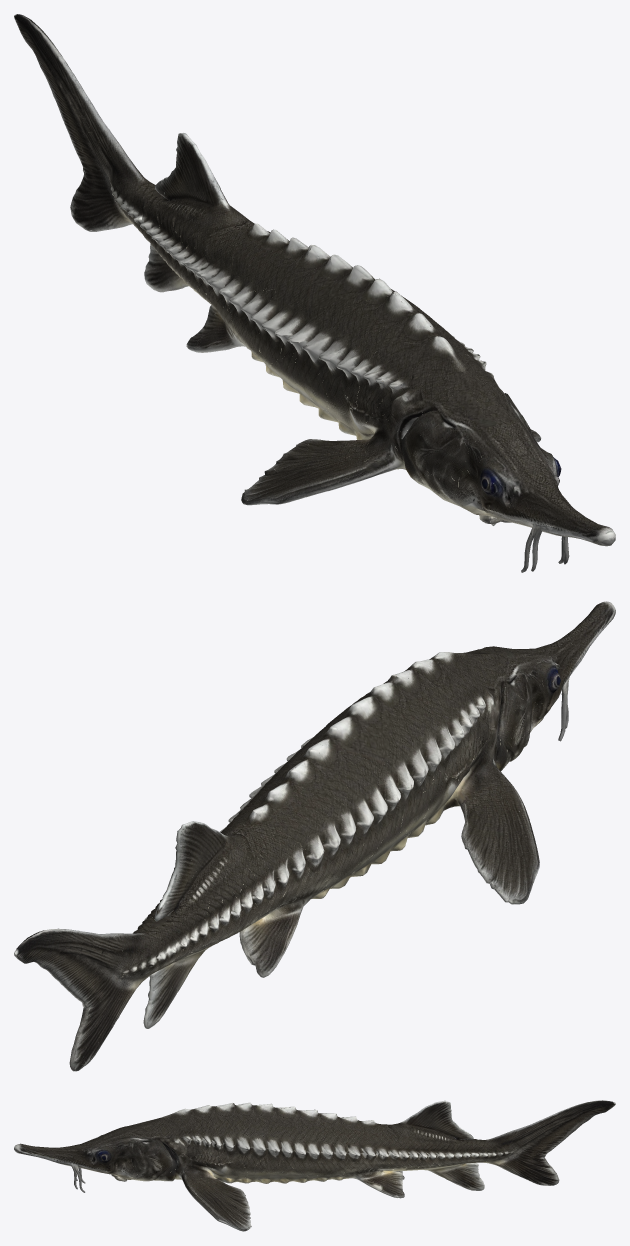
Rendered from sterlet.glb.
3 views of the same model, one above another, from view 1: azimuth 30°, elevation 25°; view 2: azimuth 150°, elevation 25°; view 3: azimuth 270°, elevation 25° (orthographic). The views are drawn at different scales.
Parts seen in each view (by area): view 1: Mesh_0; view 2: Mesh_0; view 3: Mesh_0.
Part boxes in pixels (<box>): Mesh_0: <box>14,14,615,572</box>; Mesh_0: <box>14,601,615,1071</box>; Mesh_0: <box>14,1100,615,1231</box>.
Bounding box in the file's own units: 0.5223 × 0.3363 × 1.9.
1 material, 1 textured.
